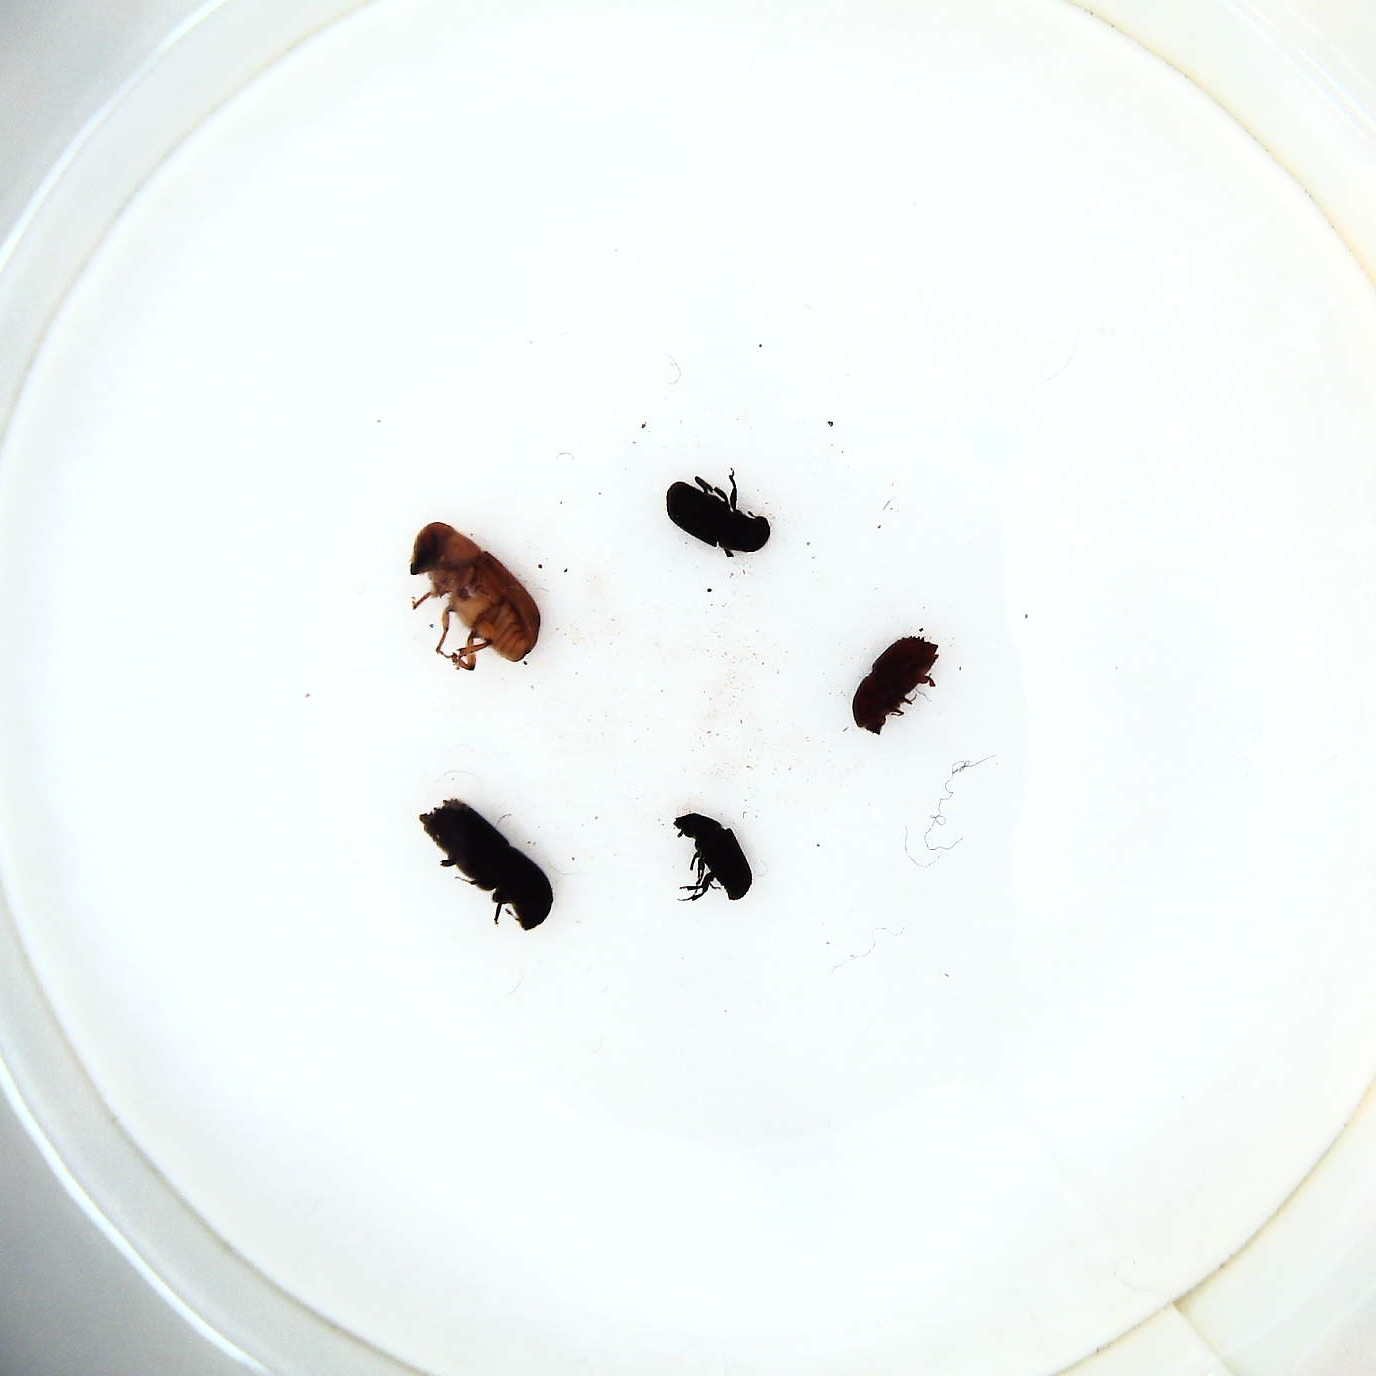Boerner: (412, 796, 561, 935)
Leconte: (402, 518, 546, 674)
armandi: (656, 466, 775, 565)
coleoptera: (668, 805, 751, 914)
linnaeus: (848, 635, 946, 740)
